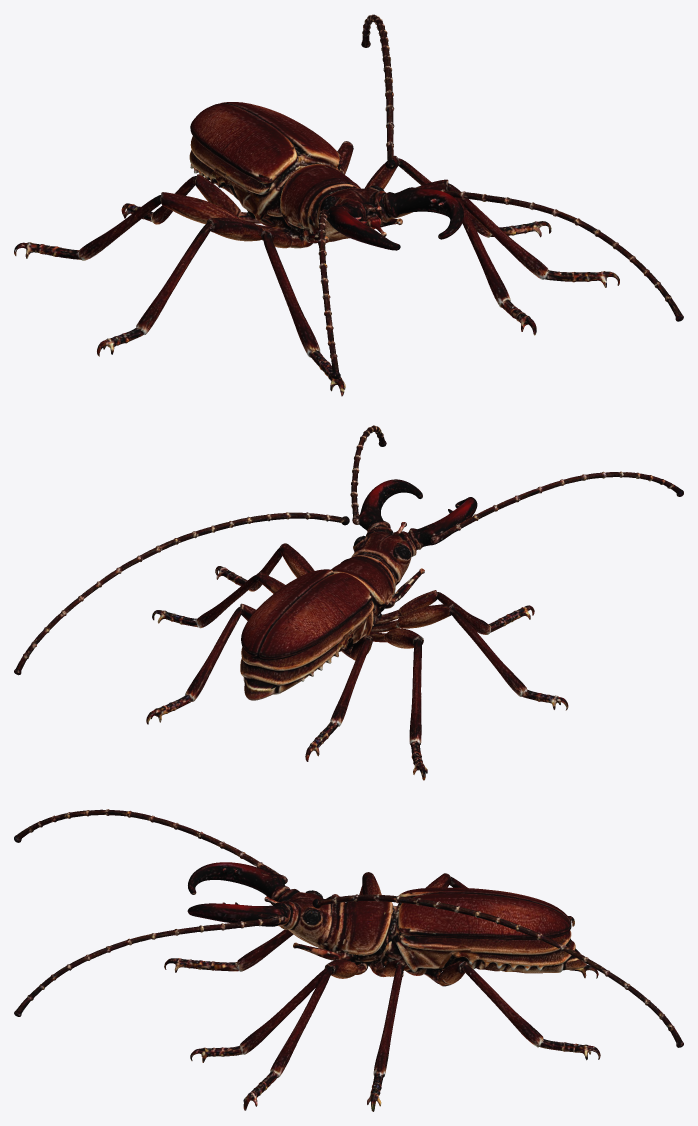
The model's file is longhorn.glb.
The picture shows the model from 3 angles, top to bottom: view 1: azimuth 30°, elevation 25°; view 2: azimuth 150°, elevation 25°; view 3: azimuth 270°, elevation 25°; orthographic projection. The views are drawn at different scales.
Visible parts, largest first — view 1: longhorn; view 2: longhorn; view 3: longhorn.
Part boxes in pixels (box(x1,y1,x2,y2)): longhorn: box(14, 14, 683, 396); longhorn: box(14, 425, 683, 780); longhorn: box(14, 809, 683, 1111).
Size of the model in its own units: 0.7254 by 0.2558 by 1.
1 material, 1 textured.
